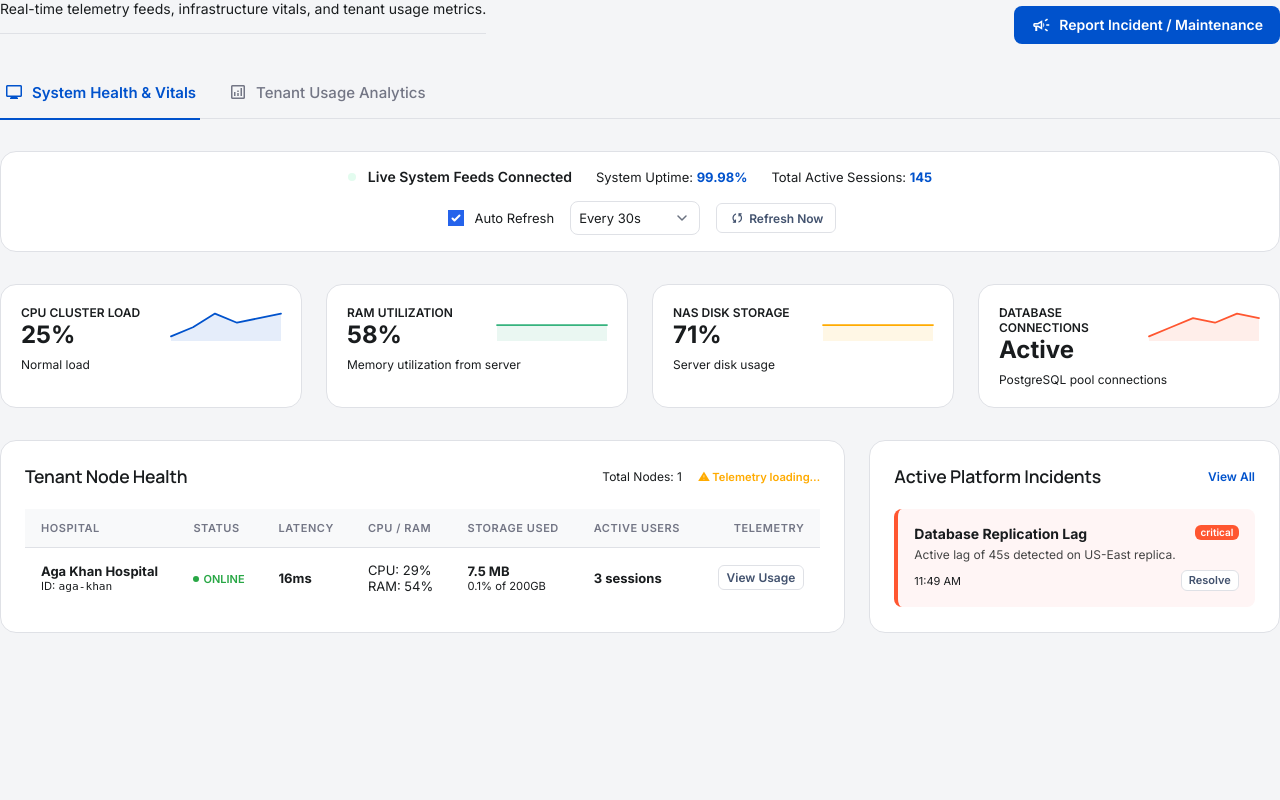
Test: SystemHealthPage › navigates to tenant usage analytics tab and loads single tenant usage details
The image size is (1280, 800).
Expected: the text "CPU Cluster Load" is shown, [21,305,140,320]
# Switch to usage tab
Click the button "Tenant Usage Analytics" at (327, 92), box [224,74,430,110]
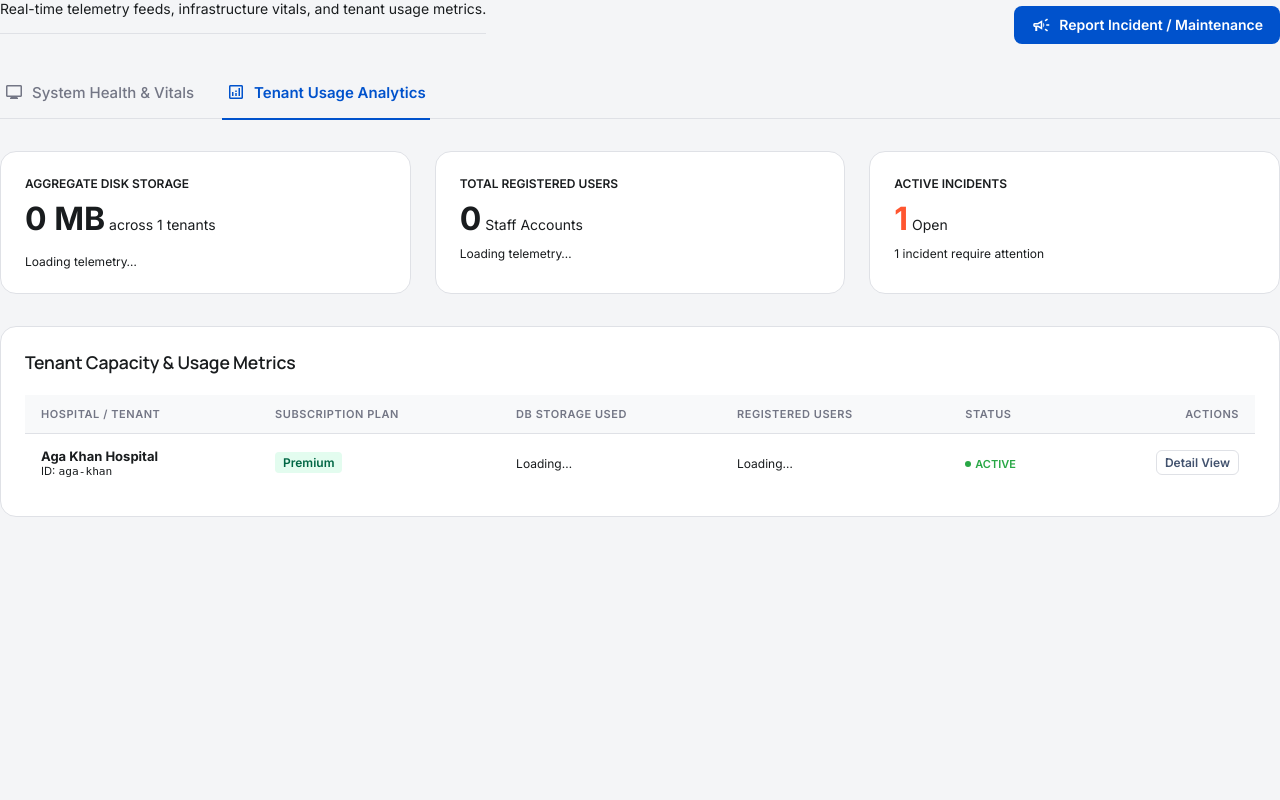
Expected: the text "Aggregate Disk Storage" is shown, [25,176,189,191]
Expected: the heading "Tenant Capacity & Usage Metrics" is shown, [25,350,296,374]
# Click on Aga Khan Hospital row to display single tenant usage details
Click the text "Aga Khan Hospital" at (100, 456), box [41,448,158,464]
(page scrolled)
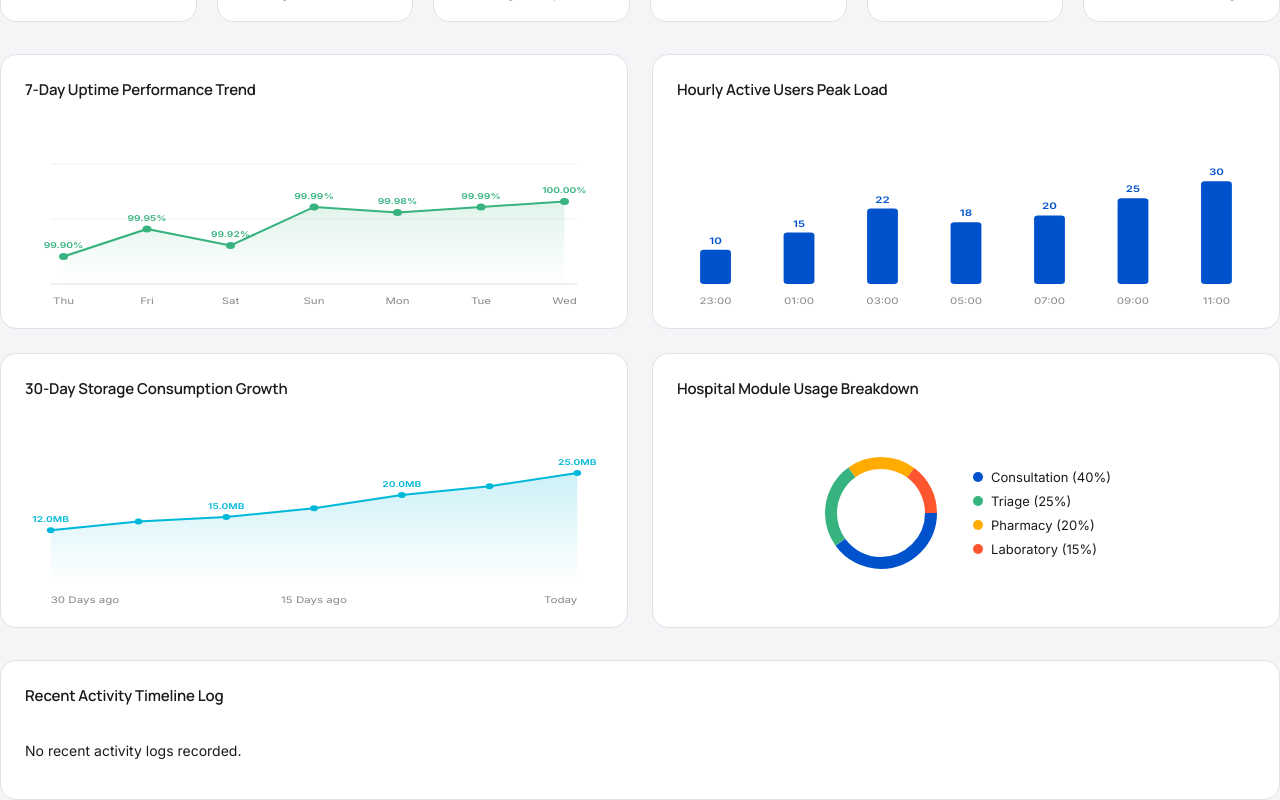
Expected: the text "Consultation (40%)" is shown, [991,469,1111,485]
Expected: the text "Triage (25%)" is shown, [991,493,1071,509]
